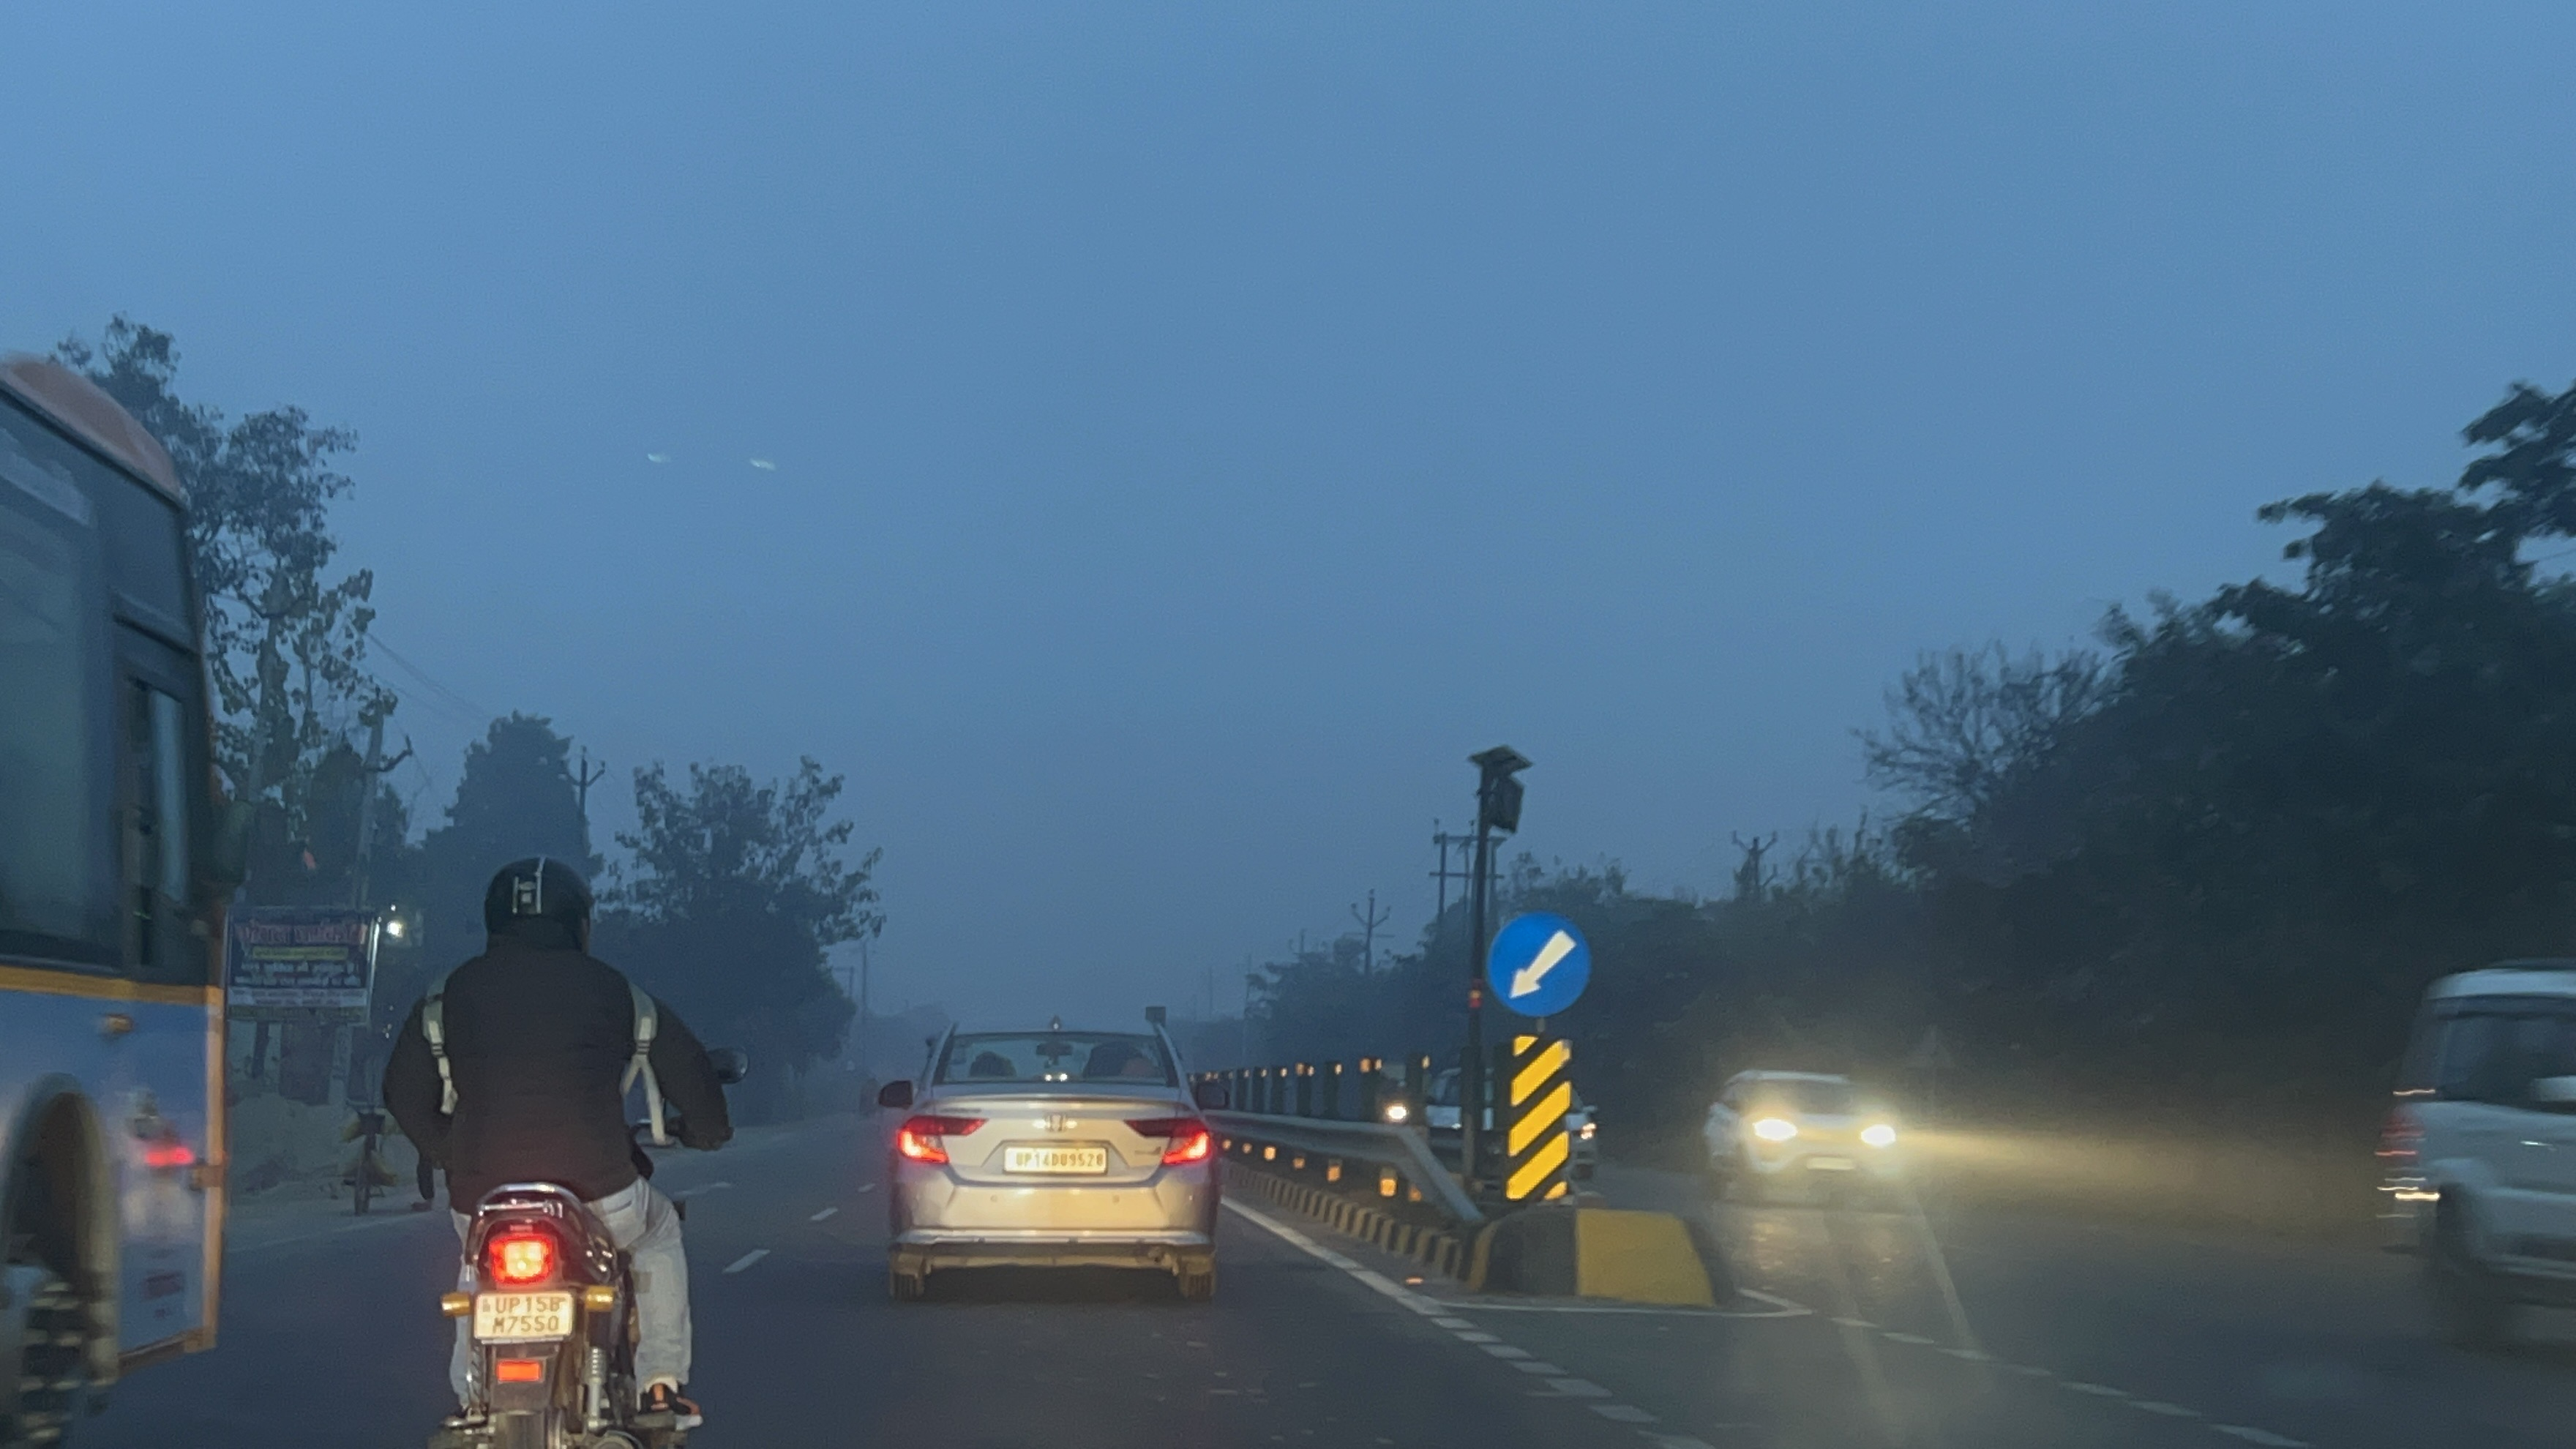General: (1499, 1028, 1576, 1205)
Regulatory: (1481, 904, 1598, 1023)
